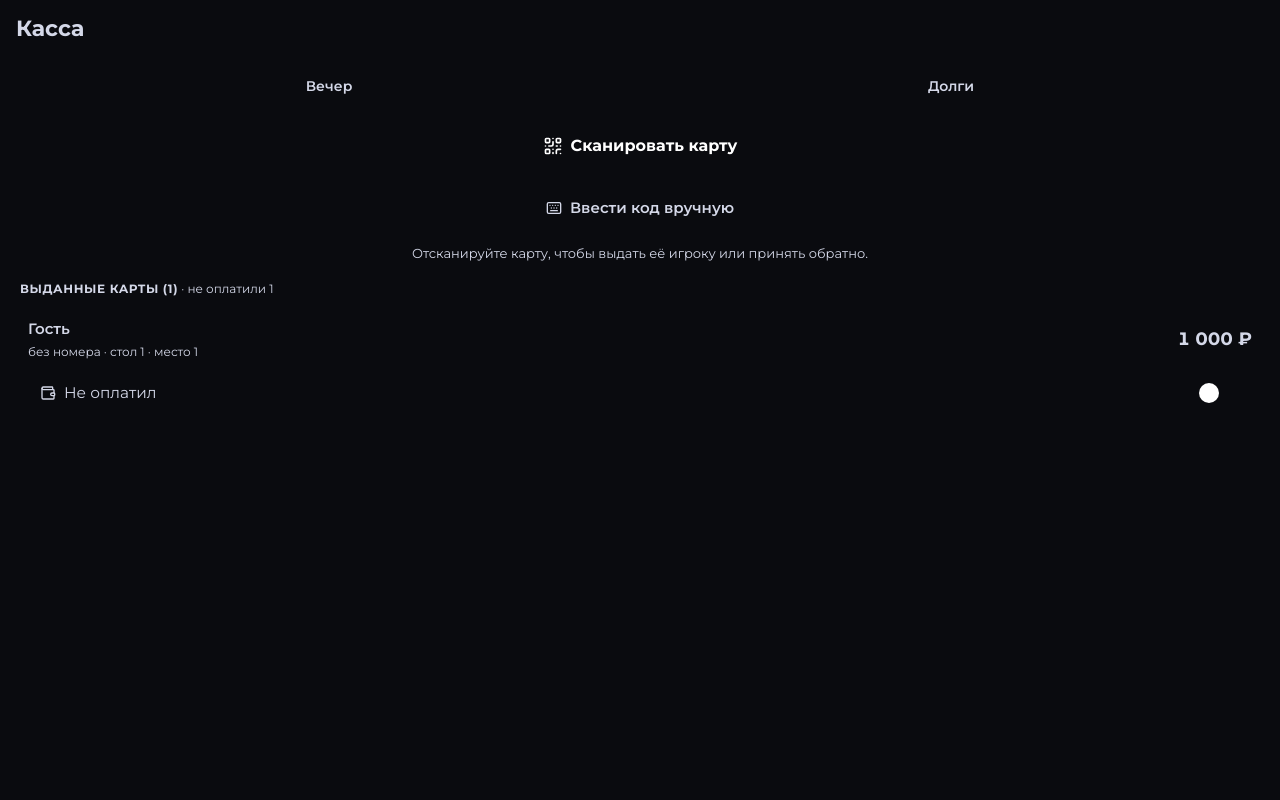
Scenario: the settling list › says so when the player has no account to open
The image size is (1280, 800).
What coordinates should you click on to do the following:
click the text "Гость"
I would click on:
 (49, 329)
Its box is 28,318 -> 70,340.
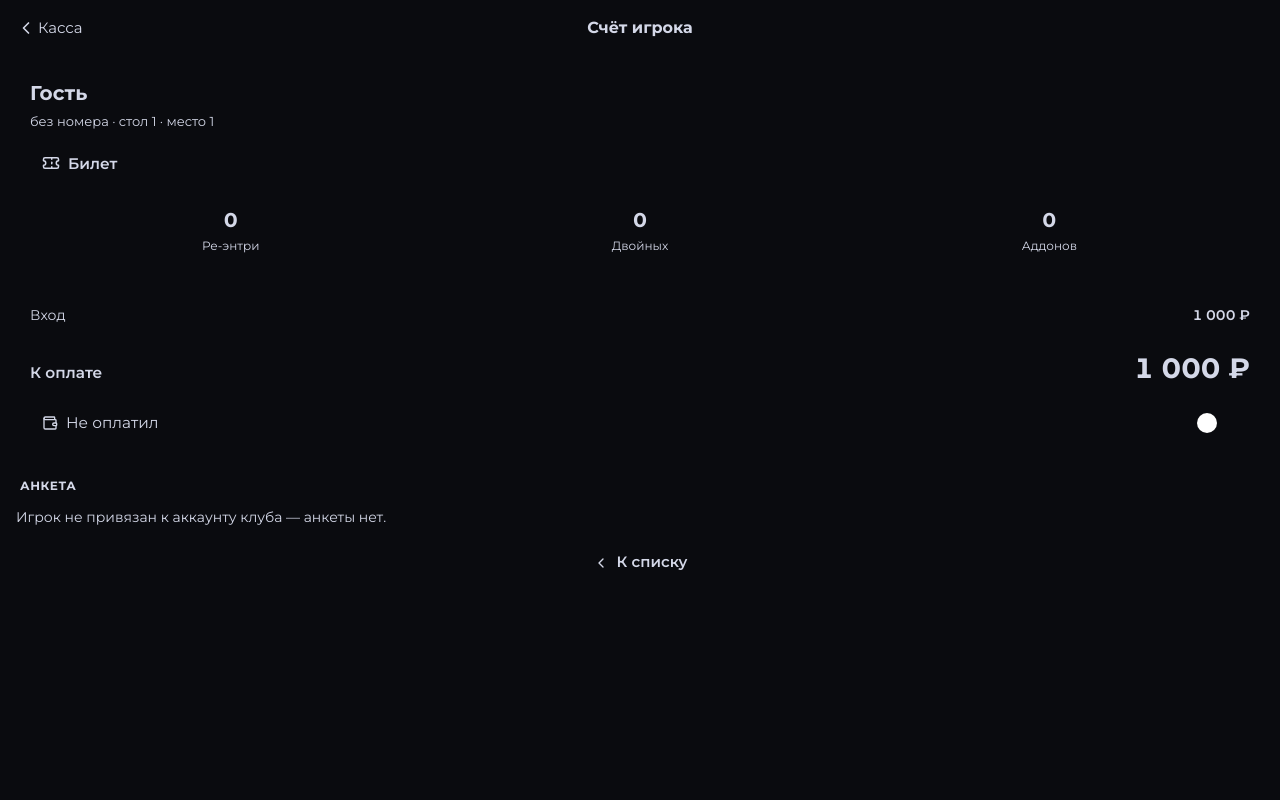
Check: the text "Игрок не привязан к аккаунту клуба — анкеты нет." is shown, box 16,508 -> 386,526
